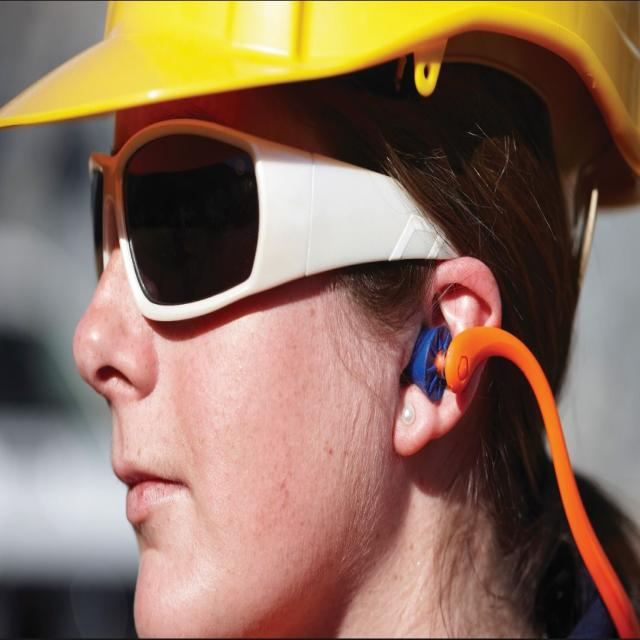goggles: (84, 113, 472, 334)
helmet: (0, 0, 640, 186)
